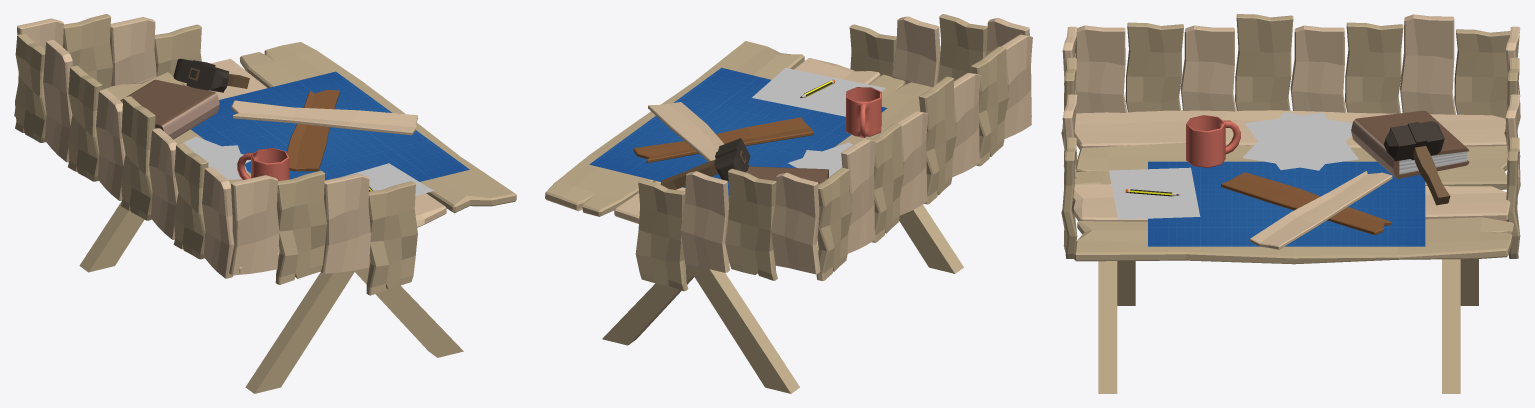
The model's file is craftingtable.fbx.
The picture shows the model from 3 angles, left to right: view 1: azimuth 30°, elevation 25°; view 2: azimuth 150°, elevation 25°; view 3: azimuth 270°, elevation 25°; orthographic projection. The views are drawn at different scales.
Visible parts, largest first — view 1: Plane, Cube, Cube.009, Cube.019, Cube.018, Cube.008, Cube.005, Cube.028, Cube.013, Cube.024, Cube.011, Cube.015 (+18 smaller); view 2: Plane, Cube, Cube.021, Cube.023, Cube.007, Cube.022, Cube.020, Cube.013, Cube.017, Plane.004, Cube.011, Cube.016 (+18 smaller); view 3: Plane, Cube, Cube.002, Cube.003, Cube.013, Cube.016, Cube.015, Cube.011, Cube.014, Cube.017, Cube.012, Cube.010 (+21 smaller).
Part boxes in pixels (box(x1,y1,x2,y2)): Plane: box(191, 71, 469, 181); Cube: box(239, 42, 516, 213); Cube.009: box(275, 170, 327, 284); Cube.019: box(366, 181, 417, 295); Cube.018: box(229, 175, 279, 275); Cube.008: box(320, 173, 370, 273); Cube.005: box(245, 270, 354, 393); Cube.028: box(231, 100, 417, 135); Cube.013: box(121, 96, 155, 220); Cube.024: box(120, 79, 219, 139); Cube.011: box(173, 143, 208, 259); Cube.015: box(67, 65, 102, 181); Plane: box(589, 67, 887, 196); Cube: box(545, 41, 804, 216); Cube.021: box(725, 168, 777, 280); Cube.023: box(635, 179, 688, 291); Cube.007: box(686, 264, 799, 393); Cube.022: box(771, 172, 820, 274); Cube.020: box(680, 171, 729, 272); Cube.013: box(918, 76, 956, 204); Cube.017: box(816, 168, 851, 280); Plane.004: box(752, 68, 885, 116); Cube.011: box(971, 46, 1008, 166); Cube.016: box(841, 139, 875, 253); Plane: box(1148, 161, 1425, 246); Cube: box(1074, 217, 1513, 264); Cube.002: box(1074, 108, 1506, 149); Cube.003: box(1074, 142, 1507, 189); Cube.013: box(1235, 14, 1293, 111); Cube.016: box(1400, 14, 1455, 114); Cube.015: box(1345, 22, 1403, 113); Cube.011: box(1125, 22, 1183, 112); Cube.014: box(1290, 25, 1346, 112); Cube.017: box(1454, 29, 1510, 118); Cube.012: box(1180, 25, 1235, 111); Cube.010: box(1075, 25, 1126, 113).
Size of the model in its own units: 858 by 682 by 1115.
16 materials, 1 textured.
